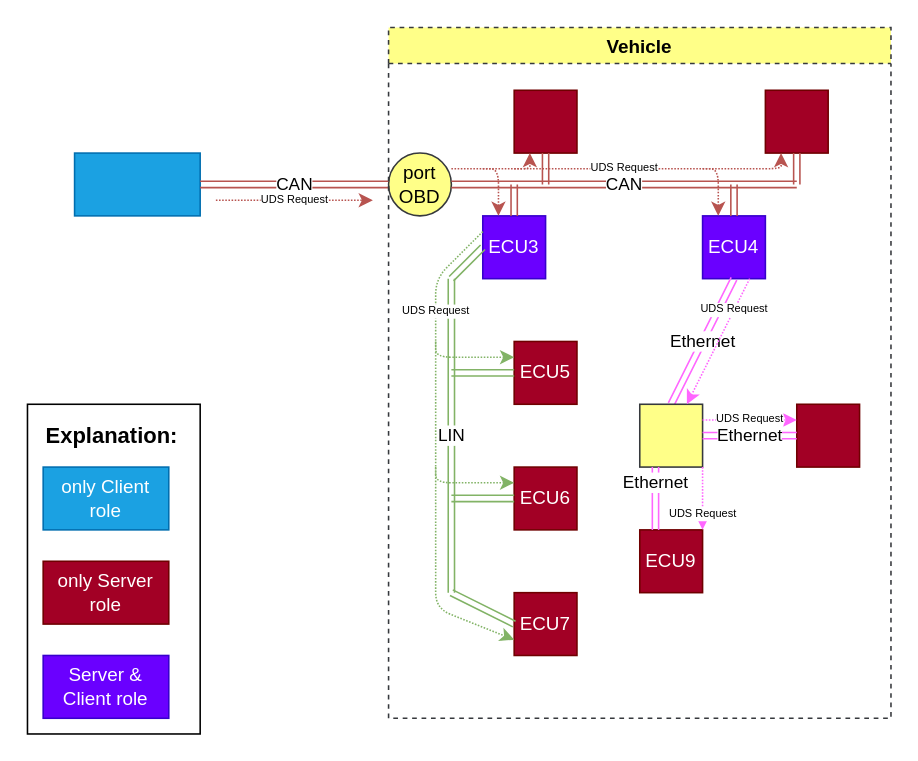
The diagram is 918 pixels wide and 761 high, and some of its shapes have lost their labels. The shapes that lost their labels are listed below. From the top down, each one's centre as x and y in pixels, then its label:
At (x=545, y=121): "ECU1".
At (x=796, y=121): "ECU2".
At (x=136, y=184): "Diagnostic Tester".
At (x=670, y=435): "Switch".
At (x=827, y=435): "ECU8".
